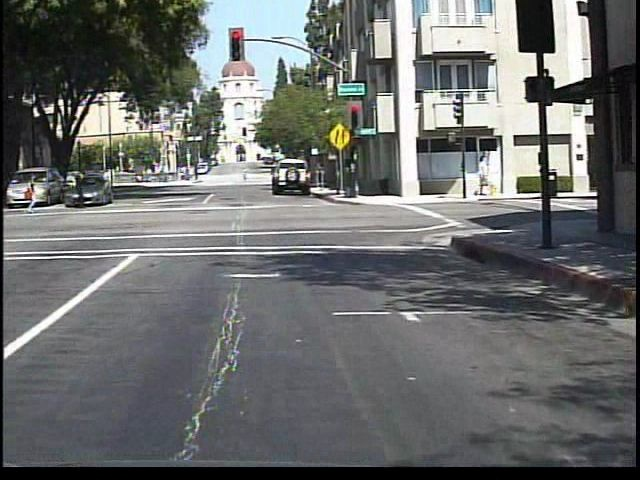person: (22, 171, 45, 217), (70, 168, 91, 210), (242, 167, 251, 184)
